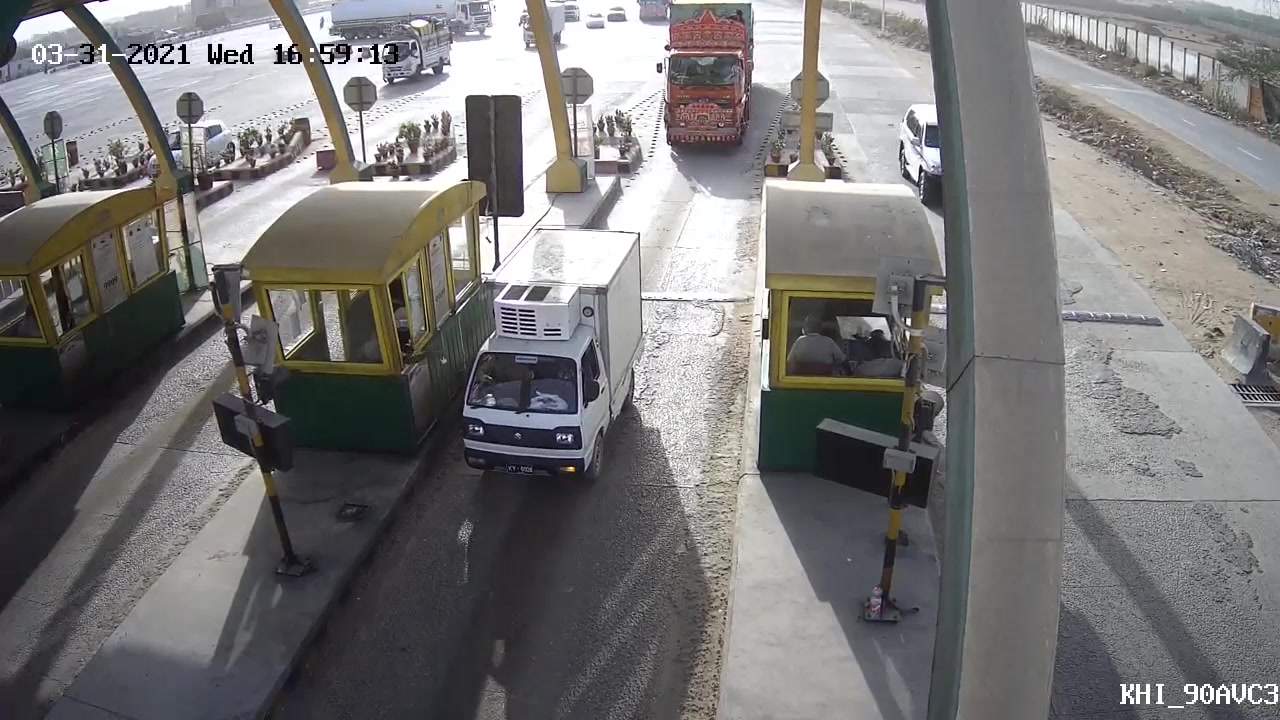F1: (429, 226, 652, 488)
F5: (652, 5, 760, 152)
